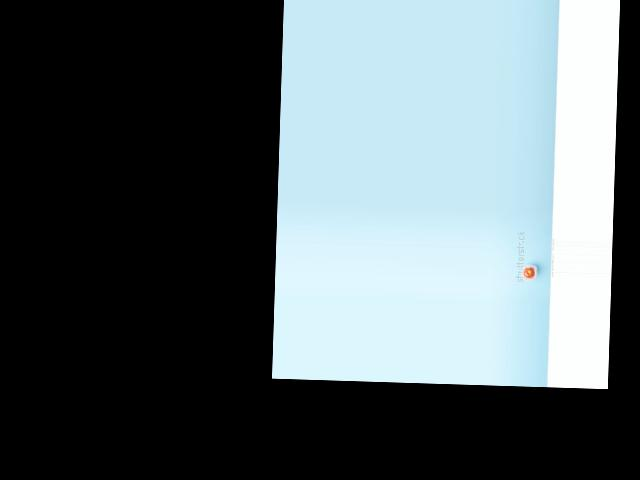tomato: (523, 266, 535, 277)
